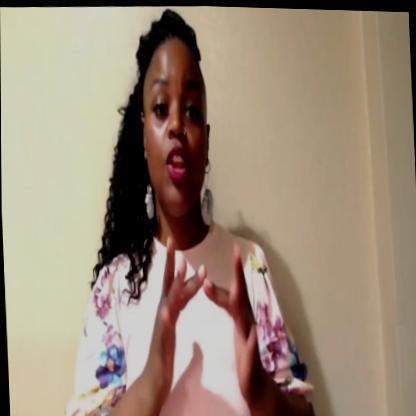Internet: (144, 228, 269, 416)
